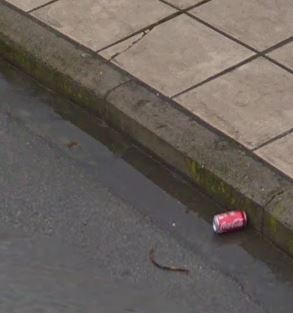trash: (204, 206, 261, 238)
